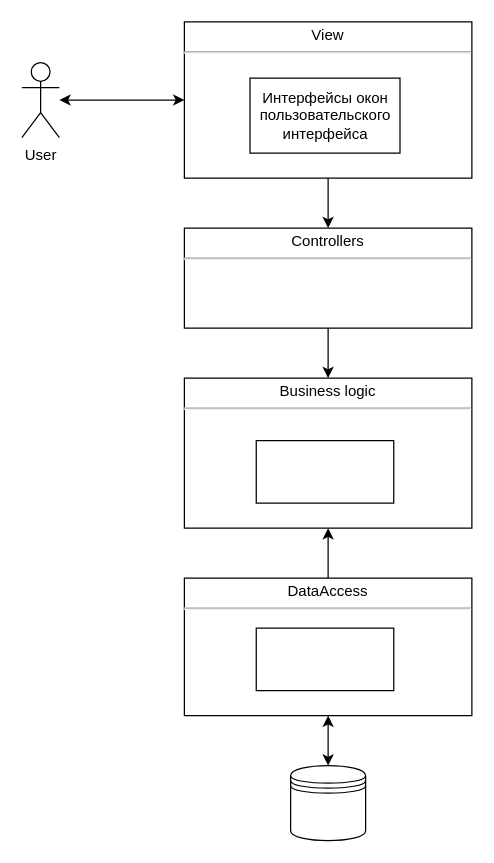
This 494x863 diagram has some shape labels left out. The centre of each missing label's shape, as x and y in pixels:
BD: (x=327, y=802)
Интерфейсы репозиториев: (x=324, y=471)
Реализация репозиториев: (x=324, y=659)
